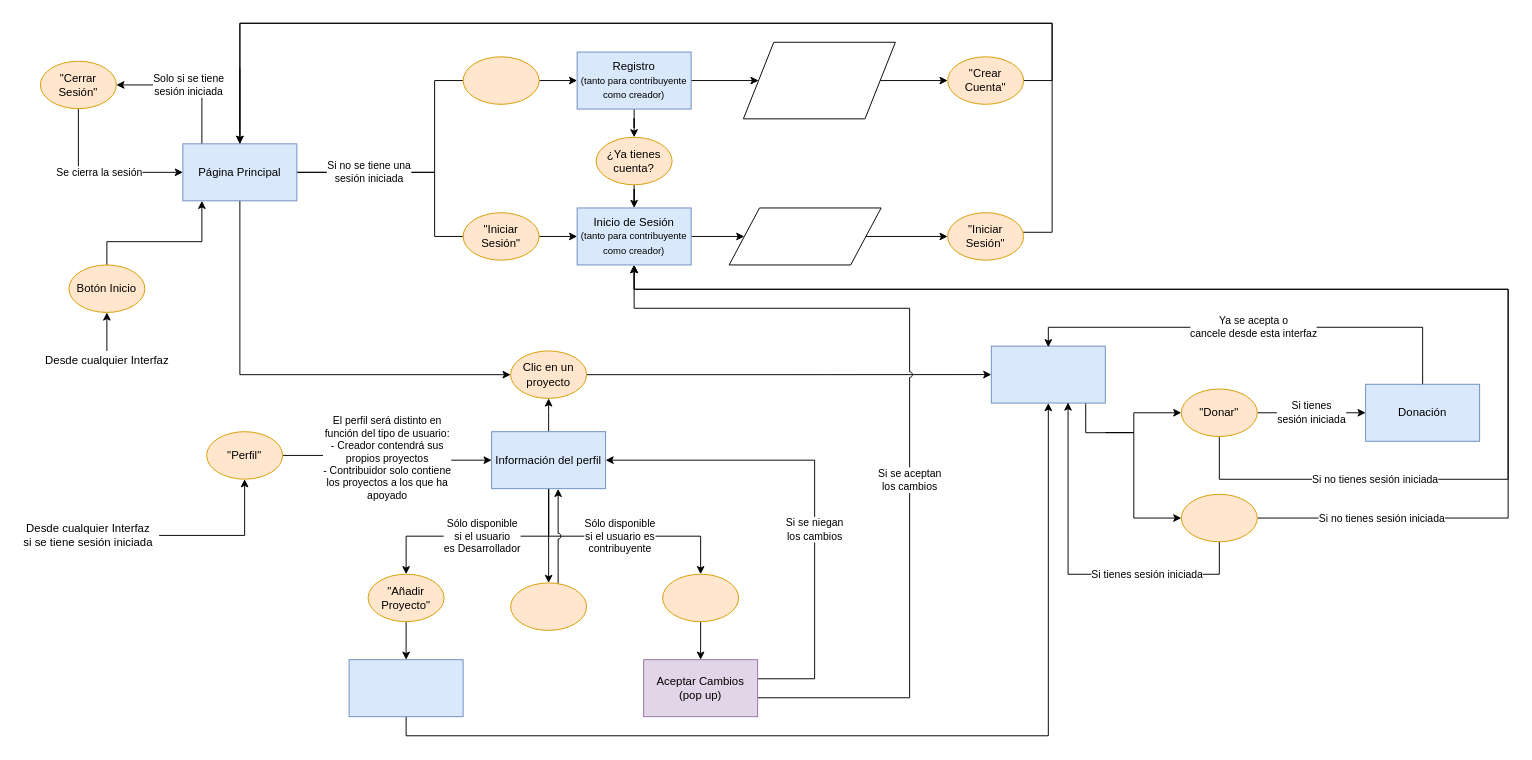
Some shapes in this 1532 by 760 pixel diagram are drawn without their labels. Each missing label, with the box of its shape:
"Comentar": (1180, 493, 1257, 542)
"Convertir en Creador": (662, 573, 739, 622)
"Registrarse": (462, 56, 539, 104)
Añadir proyecto: (348, 659, 463, 717)
Guardar: (510, 582, 587, 630)
Información del Proyecto: (990, 345, 1105, 403)
Introducción: Usuario Contraseña: (728, 207, 881, 265)
Introducción: Usuario, Nombre y Apellidos Contraseña Email: (742, 41, 895, 119)
